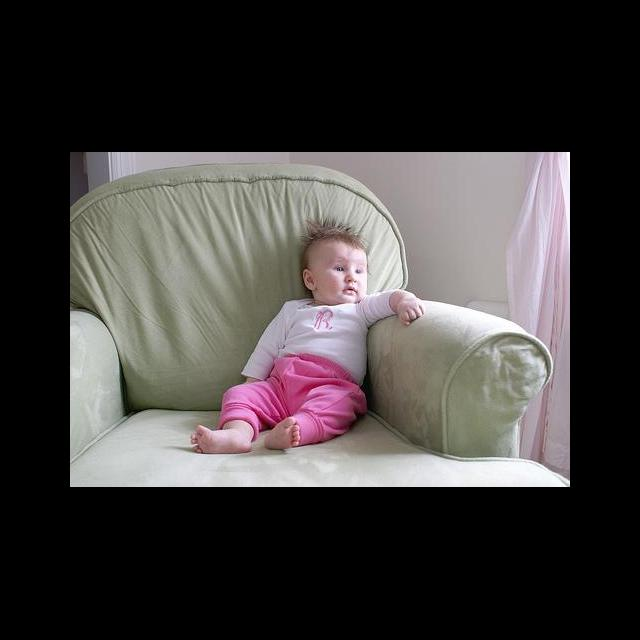NO-Hardhat: (305, 228, 367, 259)
NO-Mask: (326, 284, 365, 304)
NO-Safety Vest: (282, 304, 366, 375)
Person: (191, 228, 425, 455)
